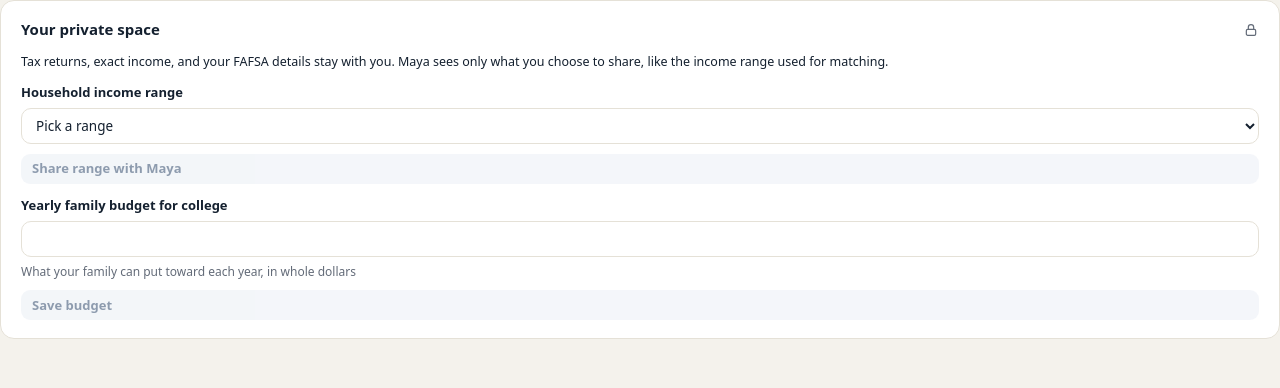
Test case: ParentSpace budget (FA-04, R3V-3) › saves "12,000" as 12000
Type "12,000" into the field labelled "Yearly family budget for college". click: coordinates (640, 239)
box: [21, 221, 1259, 257]
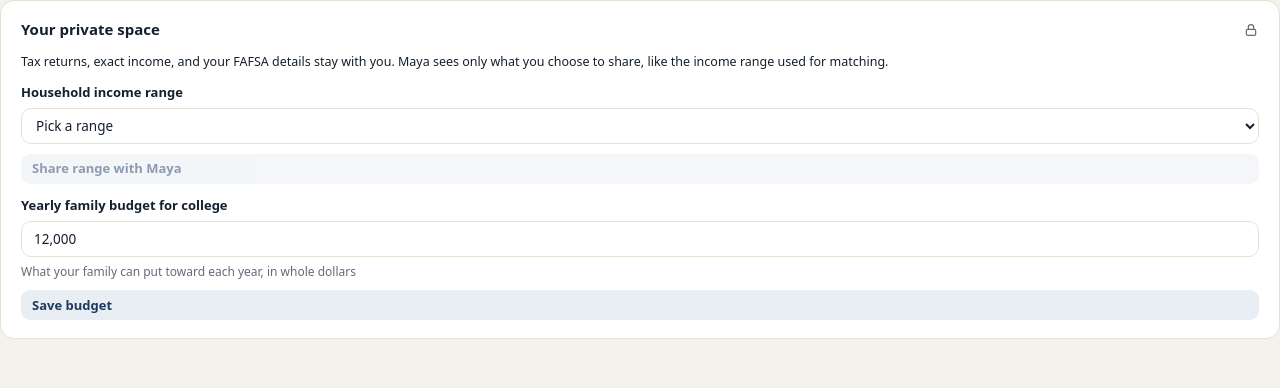
Click the button "Save budget". click: coordinates (72, 305)
box: [21, 290, 1259, 320]
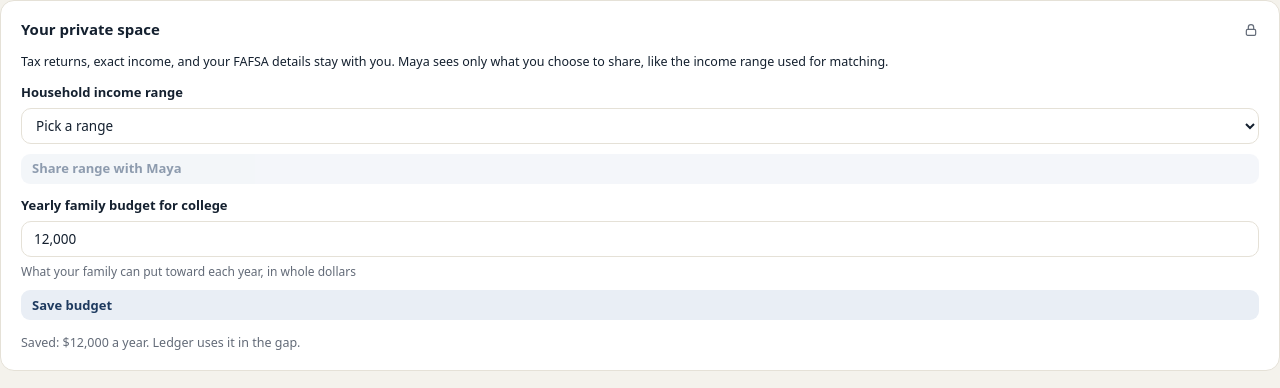
Check: the text "Saved: $12,000 a year. Ledger uses it in the gap." is shown, box [21, 334, 300, 351]
